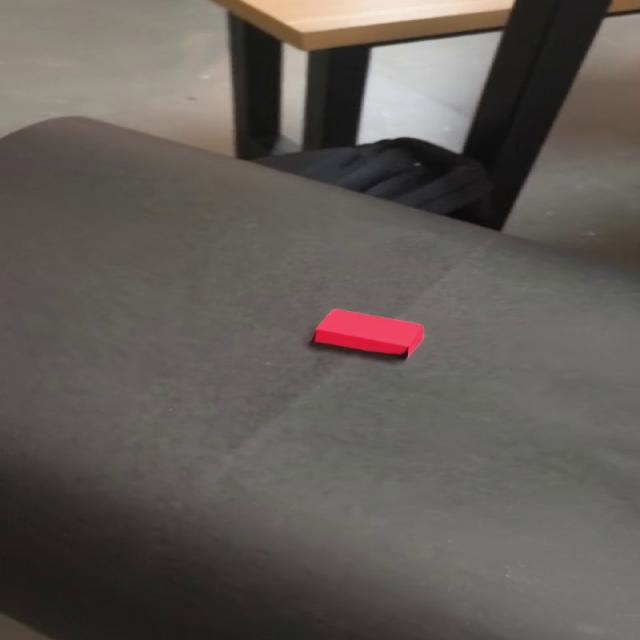red block: (311, 307, 425, 358)
